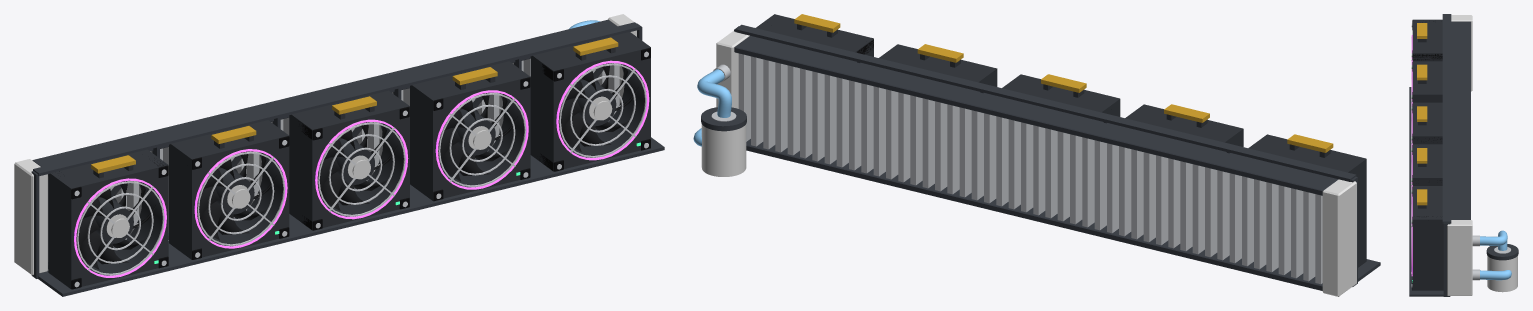
Rendered from hwm_cool_aio_360.glb.
3 renders of one model, left to right at view 1: azimuth 30°, elevation 25°; view 2: azimuth 150°, elevation 25°; view 3: azimuth 270°, elevation 25°, orthographic. The views are drawn at different scales.
Visible parts, largest first — view 1: Body, Rotor_Z_1, Rotor_Z_3, Rotor_Z_4, Rotor_Z_2, Rotor_Z_0; view 2: Body, Flow_0; view 3: Body, Flow_0, Flow_1.
Part boxes in pixels (<box>): Body: <box>14,14,664,296</box>; Rotor_Z_1: <box>197,151,277,240</box>; Rotor_Z_3: <box>438,92,518,181</box>; Rotor_Z_4: <box>558,63,638,151</box>; Rotor_Z_2: <box>317,122,397,210</box>; Rotor_Z_0: <box>76,181,156,269</box>; Body: <box>701,14,1380,296</box>; Flow_0: <box>697,69,731,117</box>; Body: <box>1409,14,1518,296</box>; Flow_0: <box>1480,230,1507,250</box>; Flow_1: <box>1480,270,1511,280</box>.
Size of the model in its own units: 0.582 by 0.1033 by 0.1276.
